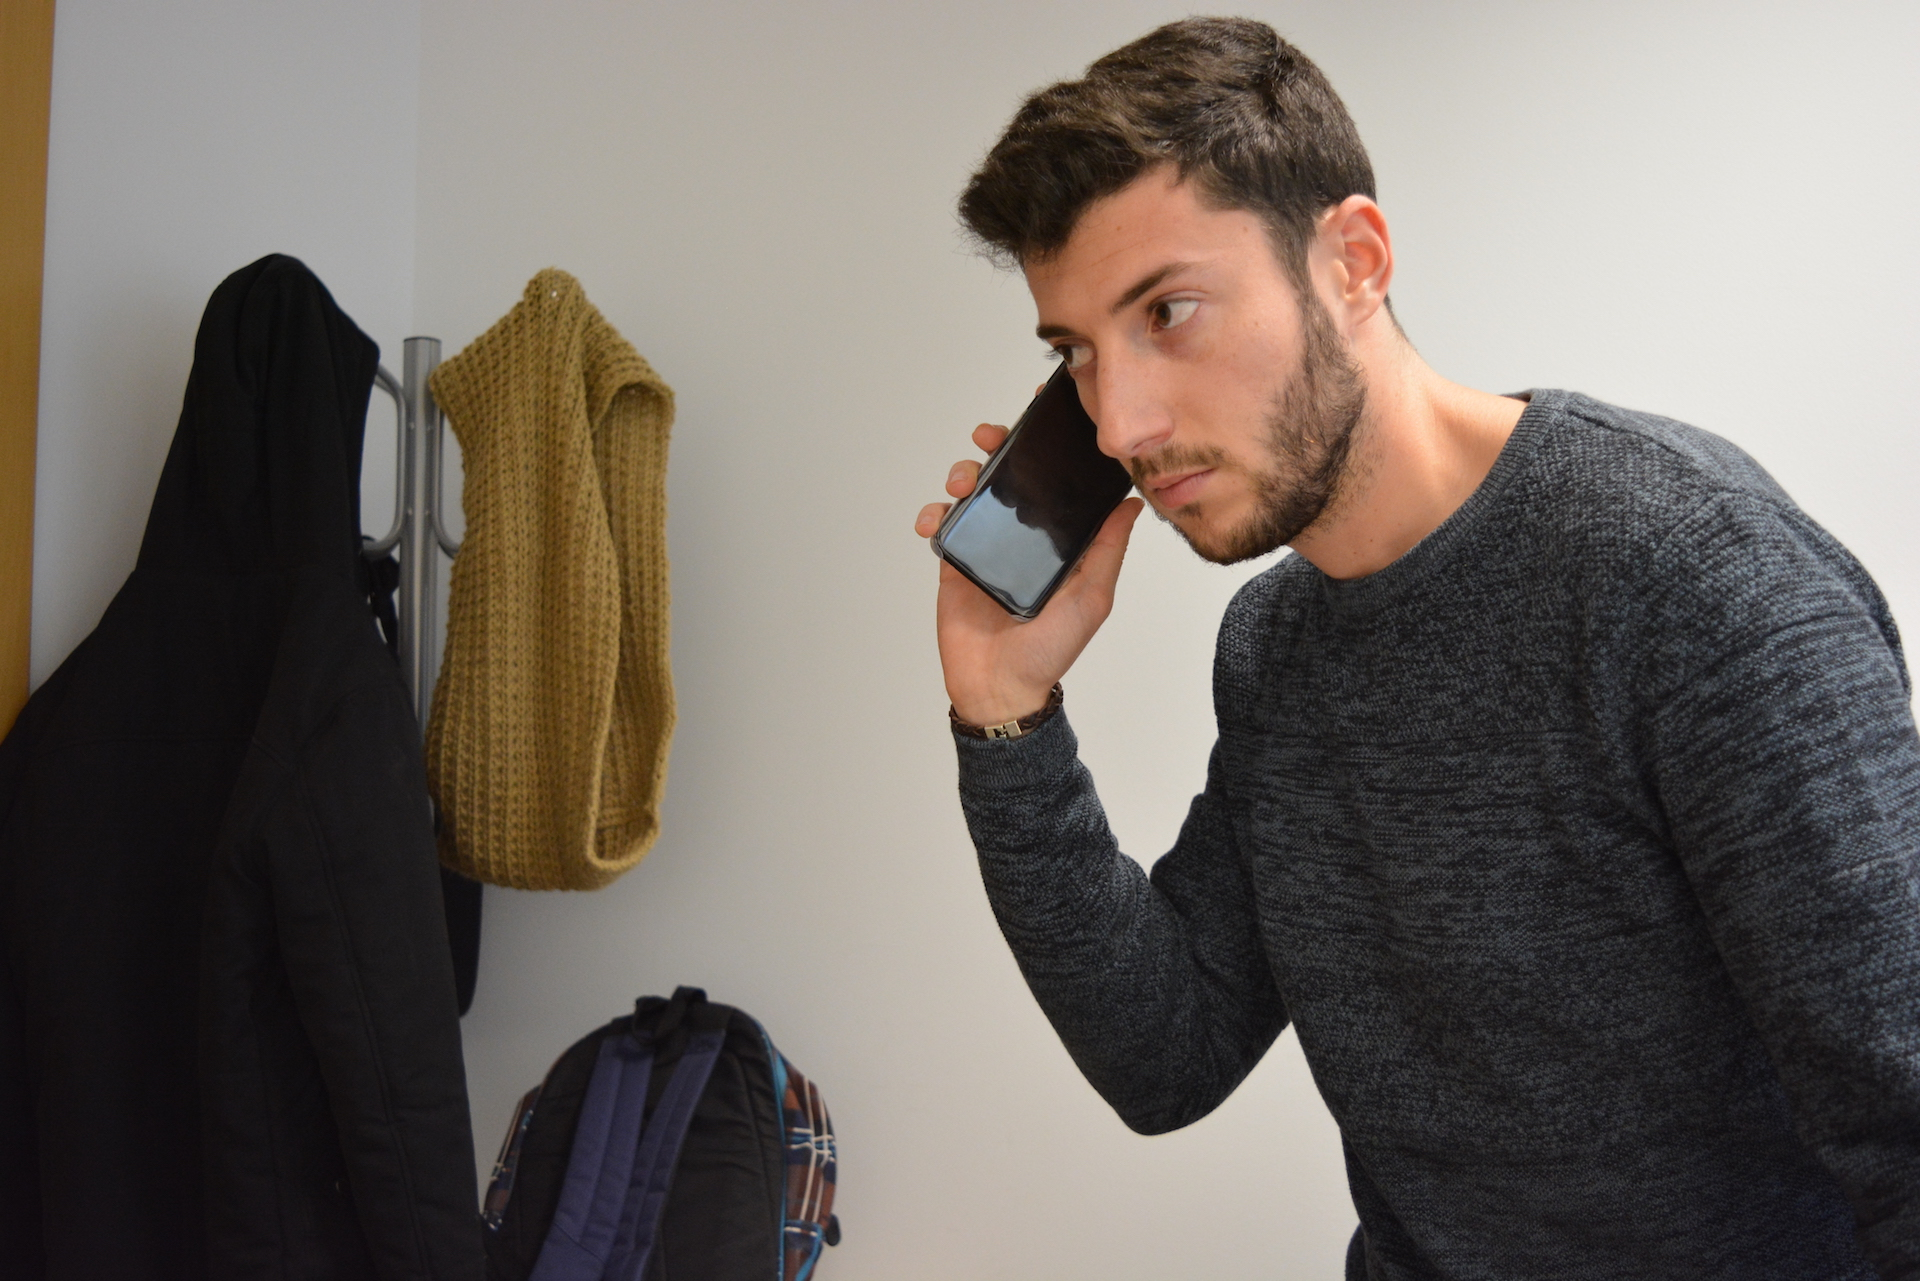smartphone: (928, 352, 1137, 623)
